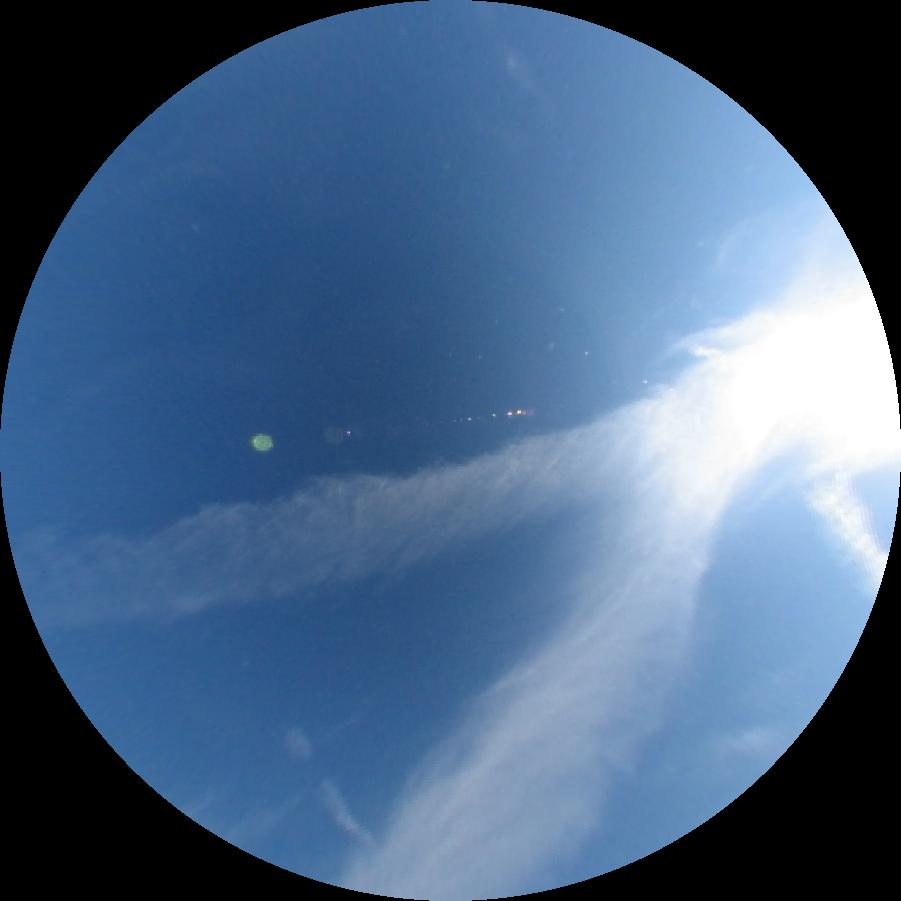contrail veryold: (11, 382, 675, 624), (286, 729, 378, 850), (805, 480, 888, 596)
